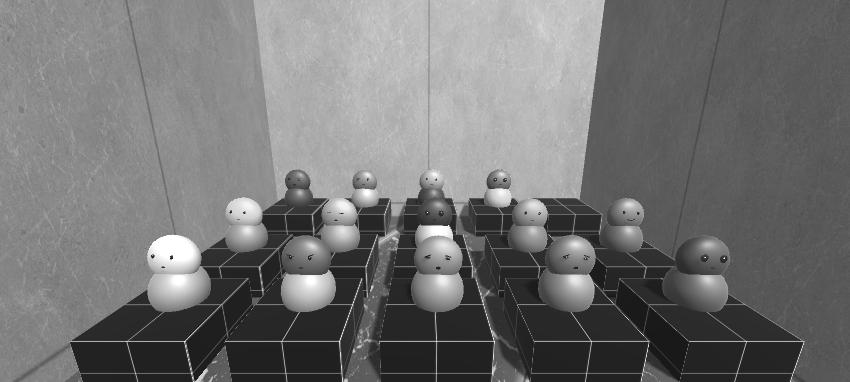blob_atento: (671, 233, 735, 278), (413, 195, 457, 228), (484, 166, 514, 192)
blob_dormindo: (321, 197, 361, 229)
blob_entediado: (540, 235, 600, 280), (410, 233, 466, 277)
blob_feliz: (602, 196, 649, 228)
blob_normal: (142, 232, 204, 276), (510, 198, 551, 227), (224, 196, 263, 225), (280, 167, 312, 191), (416, 170, 447, 191), (350, 169, 378, 190)
blob_raiva: (280, 234, 334, 276)
